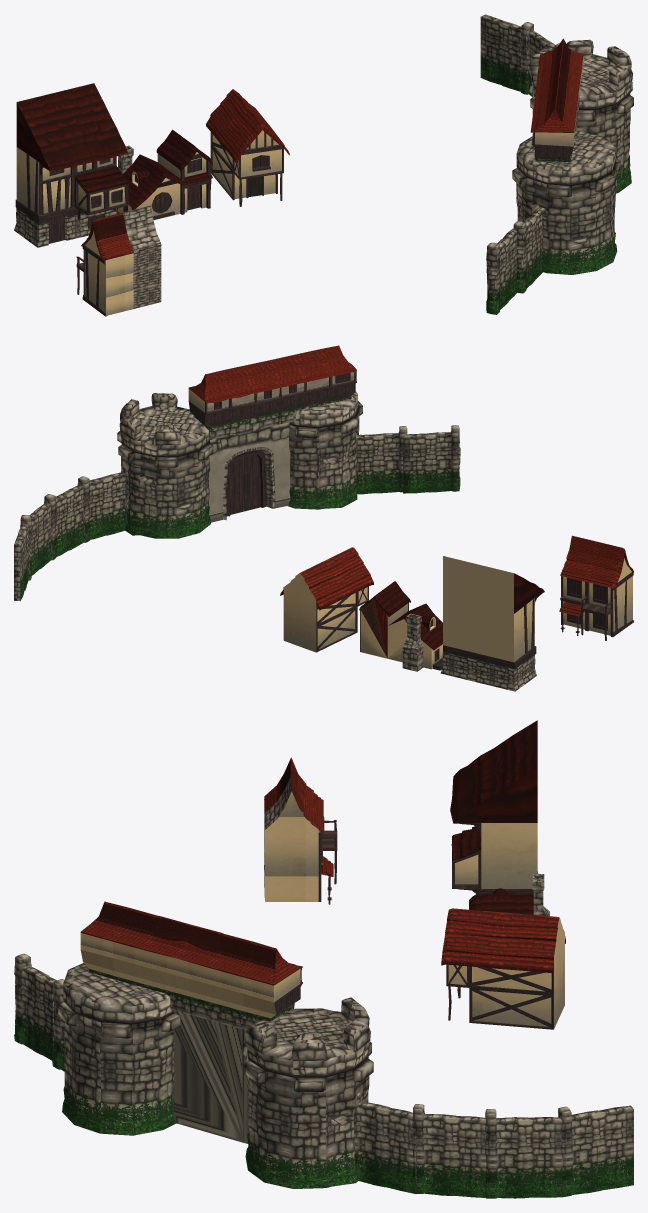
File: t1h1_GRmain.fbx
3 renders of one model, top to bottom at view 1: azimuth 30°, elevation 25°; view 2: azimuth 150°, elevation 25°; view 3: azimuth 270°, elevation 25°, orthographic. The views are drawn at different scales.
Visible parts, largest first — view 1: Cube.017, Cylinder.001, Cylinder.000, Cube.022, Cube.020, Cube.025, Cube.026, Cube.024; view 2: Cube.017, Cube.022, Cylinder.000, Cylinder.001, Cube.025, Cube.026, Cube.021, Cube.023, Cube.024, Cube.020; view 3: Cube.017, Cube.022, Cylinder.000, Cylinder.001, Cube.024, Cube.023, Cube.020, Cube.021, Cube.025, Cube.026.
Part boxes in pixels (left/top/right/bottom): Cube.017: left=14, top=83, right=289, bottom=315; Cylinder.001: left=512, top=131, right=620, bottom=274; Cylinder.000: left=529, top=39, right=633, bottom=193; Cube.022: left=530, top=38, right=583, bottom=161; Cube.020: left=480, top=14, right=533, bottom=94; Cube.025: left=486, top=228, right=517, bottom=314; Cube.026: left=513, top=207, right=544, bottom=293; Cube.024: left=529, top=30, right=559, bottom=96; Cube.017: left=280, top=535, right=633, bottom=691; Cube.022: left=188, top=345, right=356, bottom=522; Cylinder.000: left=117, top=393, right=213, bottom=538; Cylinder.001: left=288, top=391, right=362, bottom=509; Cube.025: left=403, top=425, right=460, bottom=493; Cube.026: left=356, top=426, right=407, bottom=494; Cube.021: left=89, top=465, right=128, bottom=539; Cube.023: left=55, top=476, right=90, bottom=556; Cube.024: left=30, top=494, right=56, bottom=575; Cube.020: left=14, top=515, right=31, bottom=601; Cube.017: left=264, top=720, right=565, bottom=1029; Cube.022: left=80, top=901, right=302, bottom=1143; Cylinder.000: left=242, top=997, right=373, bottom=1188; Cylinder.001: left=58, top=963, right=180, bottom=1135; Cube.024: left=485, top=1109, right=563, bottom=1198; Cube.023: left=412, top=1104, right=486, bottom=1197; Cube.020: left=558, top=1105, right=633, bottom=1196; Cube.021: left=354, top=1092, right=416, bottom=1193; Cube.025: left=14, top=953, right=56, bottom=1060; Cube.026: left=52, top=979, right=64, bottom=1071.
Bounding box in the file's own units: 6836 × 1960 × 5326.
